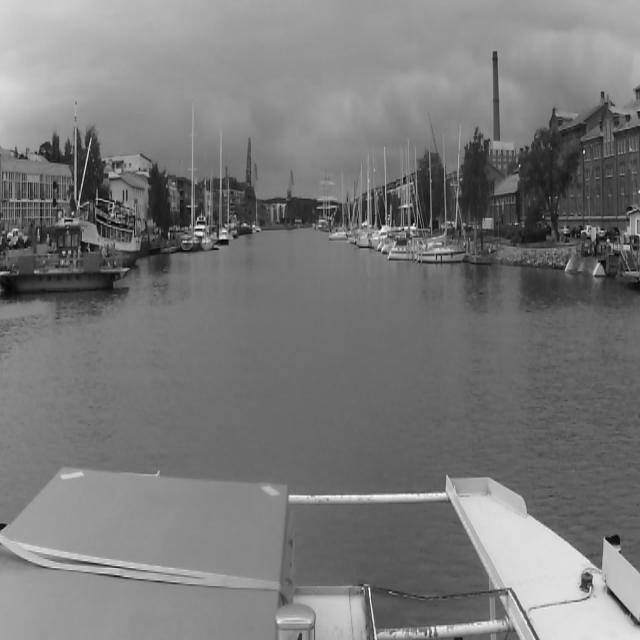ship: (6, 226, 126, 287), (58, 200, 143, 262), (389, 138, 428, 258), (180, 97, 198, 250), (370, 146, 396, 247), (330, 171, 352, 239), (316, 166, 338, 232), (218, 125, 228, 244), (202, 176, 214, 249)
